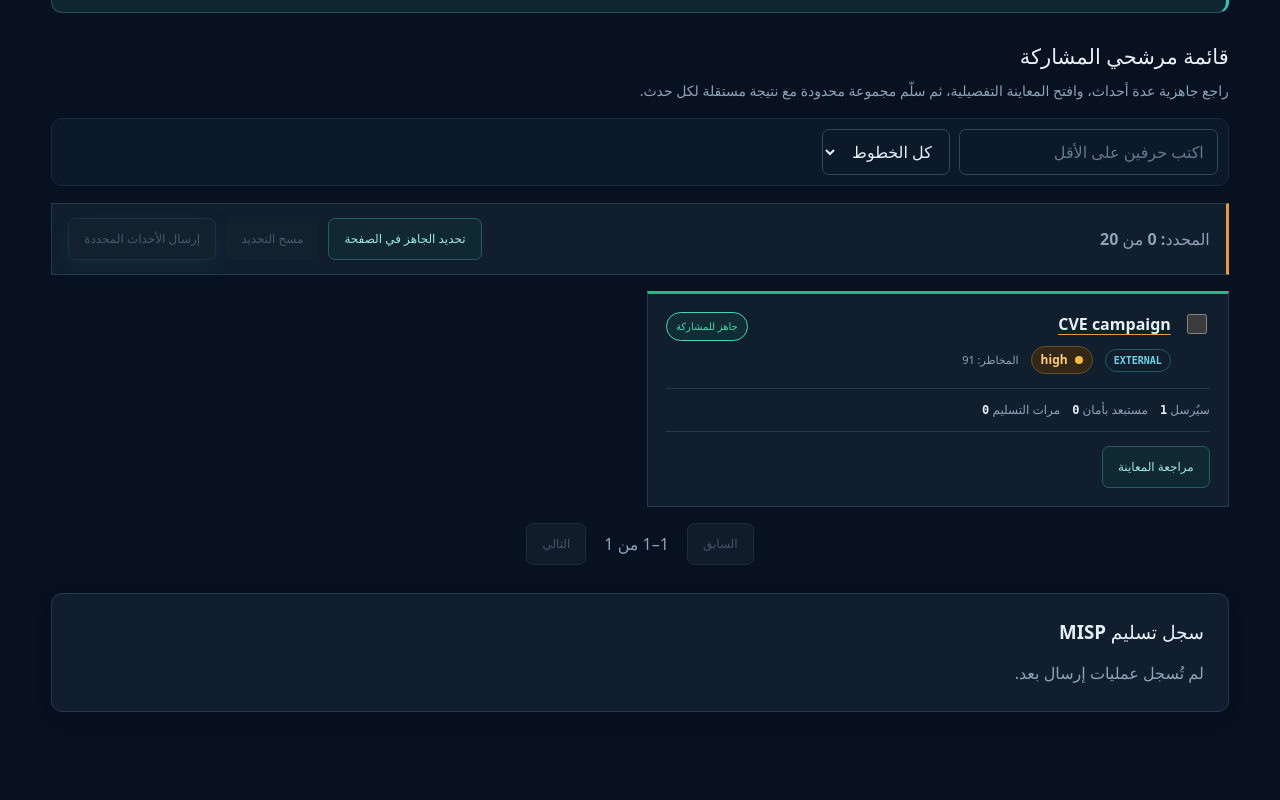
Test case: analysis and MISP › requires confirmation and prevents duplicate admin MISP sends
(page scrolled)
Click the button "مراجعة المعاينة" at (1156, 467), box [1102,446,1210,488]
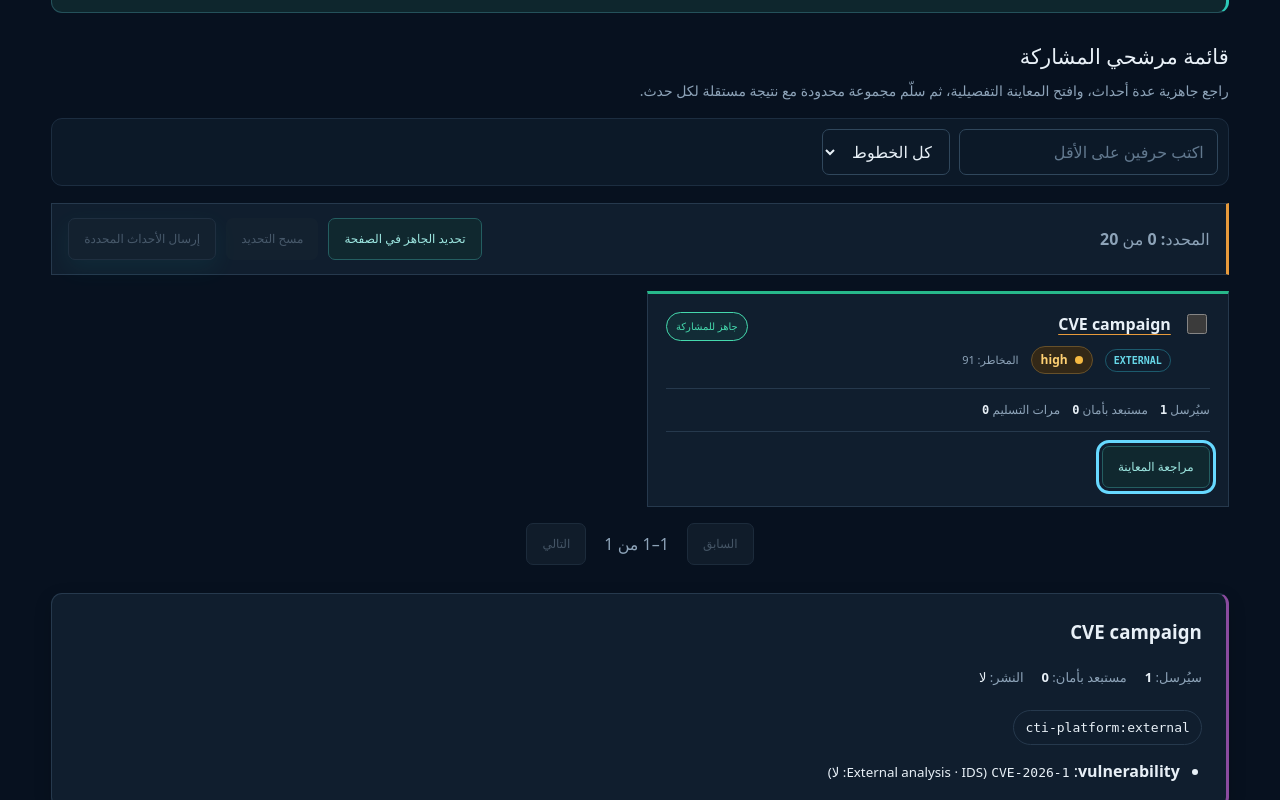
Result: the text "CVE-2026-1" is shown at [991,765,1070,780]
Click the checkbox named "تحديد CVE campaign للمشاركة" at (1197, 324), box [1187,314,1207,334]
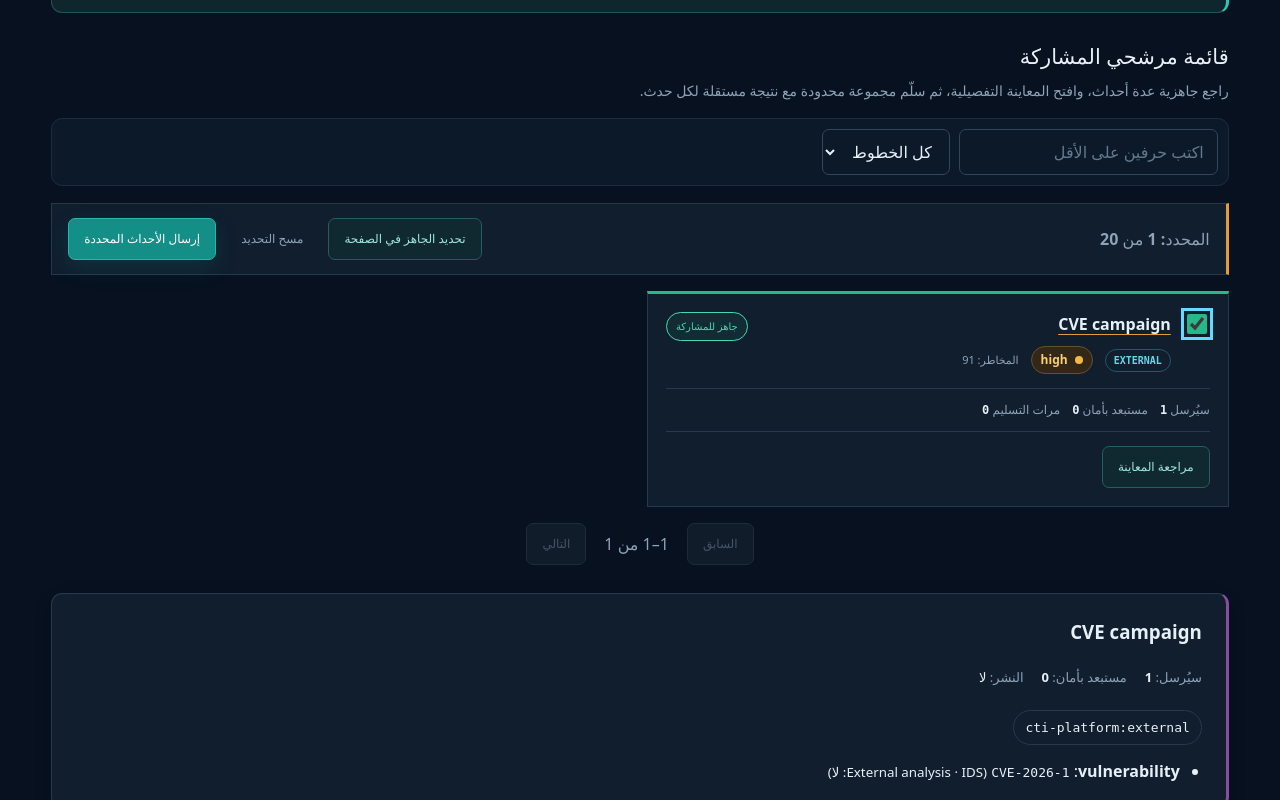
Click the button "إرسال الأحداث المحددة" at (142, 239), box [68,218,216,260]
(page scrolled)
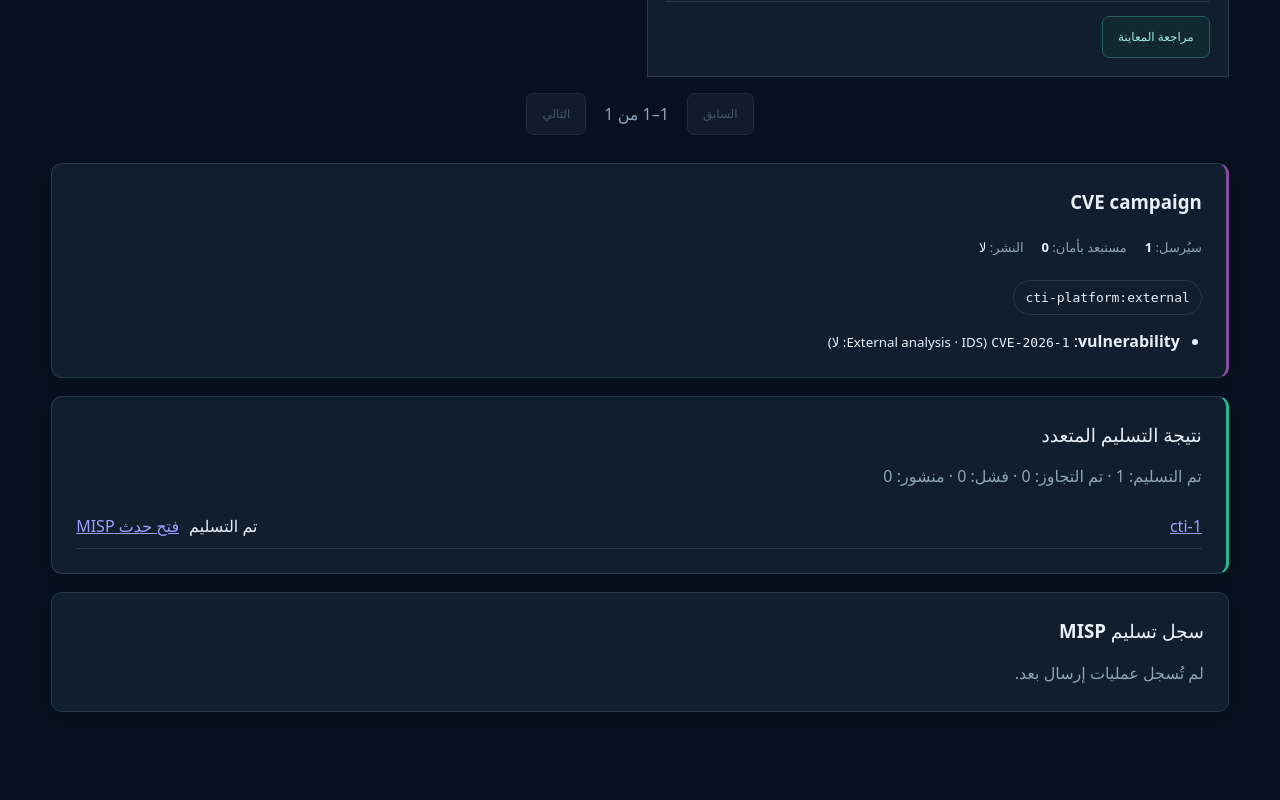
Result: the text "تم التسليم: 1 · تم التجاوز: 0 · فشل: 0 · منشور: 0" is shown at [883,465,1202,487]
